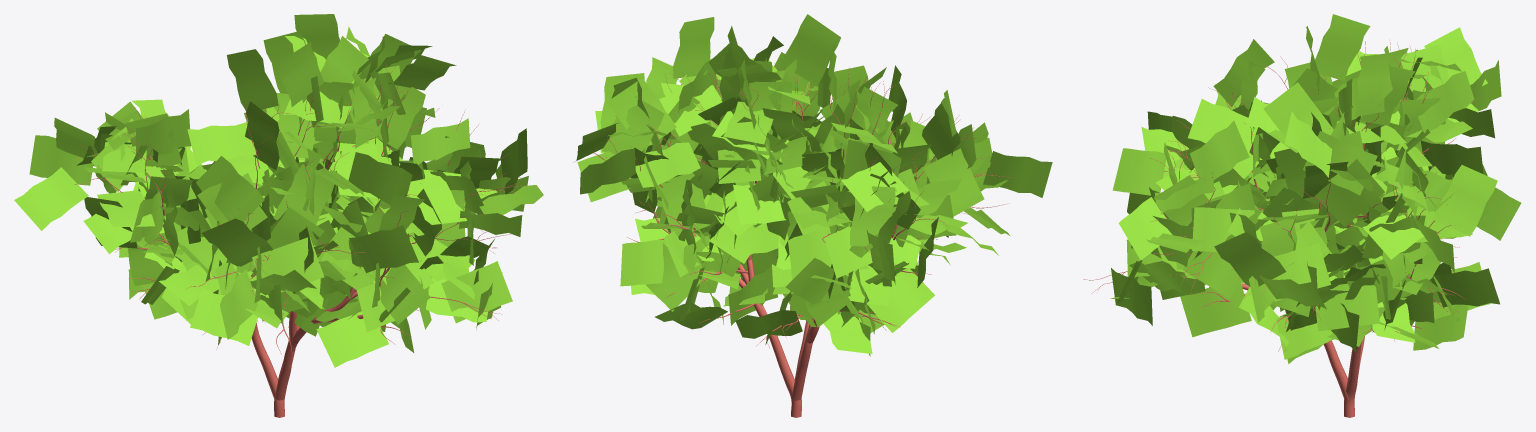
File: tree.fbx
3 renders of one model, left to right at view 1: azimuth 30°, elevation 25°; view 2: azimuth 150°, elevation 25°; view 3: azimuth 270°, elevation 25°, orthographic. The views are drawn at different scales.
Visible parts, largest first — view 1: static_mesh; view 2: static_mesh; view 3: static_mesh.
Part boxes in pixels (x1,y1,x2,y2): static_mesh: [14, 14, 543, 417]; static_mesh: [575, 14, 1052, 417]; static_mesh: [1083, 14, 1521, 417].
Size of the model in its own units: 812 by 662 by 673.
